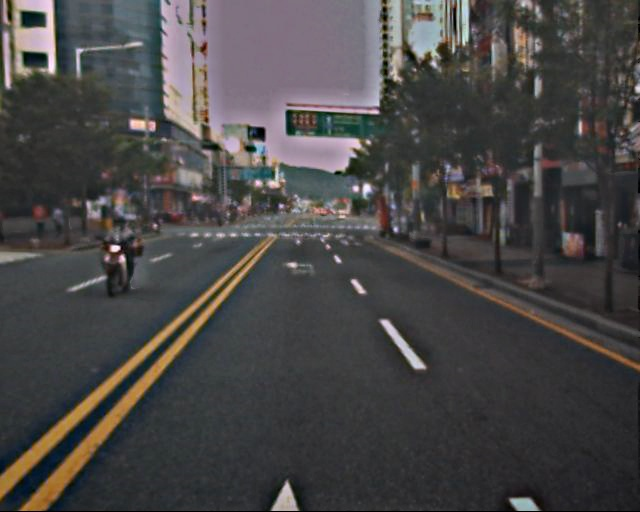person: (107, 206, 149, 280), (32, 198, 58, 238), (53, 199, 77, 236)
